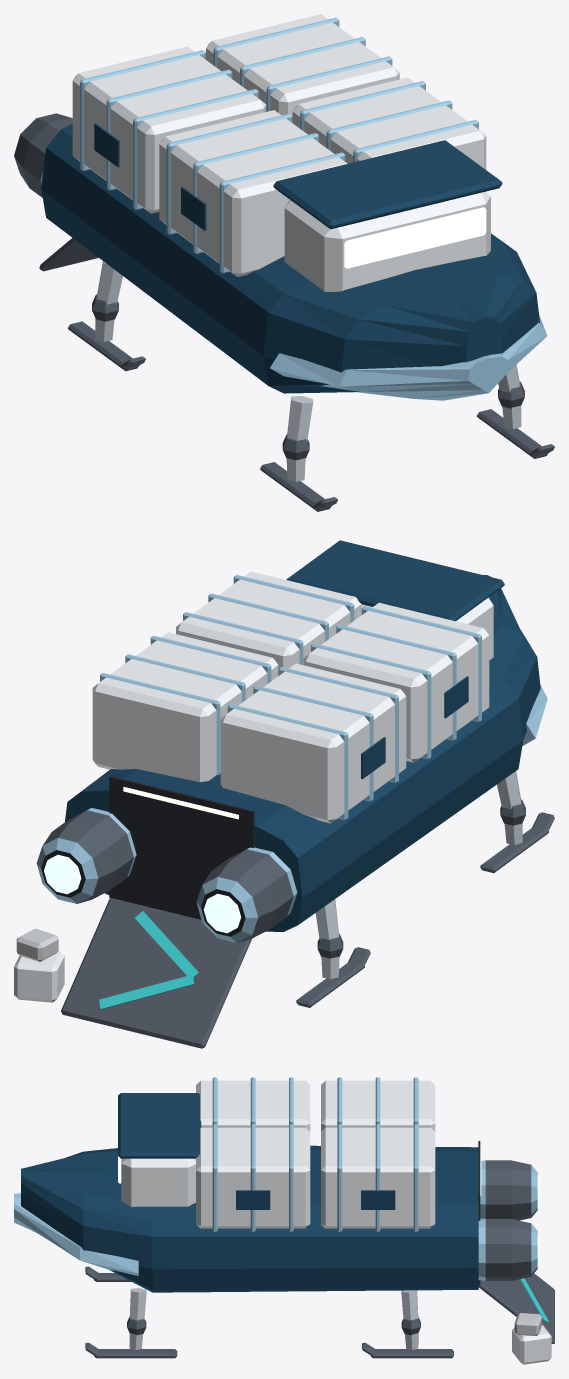
Rendered from fro-f_offen.glb.
3 renders of one model, top to bottom at view 1: azimuth 30°, elevation 25°; view 2: azimuth 150°, elevation 25°; view 3: azimuth 270°, elevation 25°, orthographic. The views are drawn at different scales.
Visible parts, largest first — view 1: rumpf, brücke, frachtmodul_2, frachtmodul_4, frachtmodul_3, frachtmodul_1, eisbrecherbug, landebein_2, landebein_4, landebein_1, triebwerk_r, rampe; view 2: rumpf, frachtmodul_4, frachtmodul_3, rampe, frachtmodul_2, laderaum, frachtmodul_1, brücke, triebwerk_r, triebwerk_l, ladung, landebein_4 (+2 smaller); view 3: rumpf, frachtmodul_3, frachtmodul_1, brücke, frachtmodul_4, frachtmodul_2, triebwerk_l, triebwerk_r, rampe, eisbrecherbug, landebein_1, landebein_3 (+2 smaller).
Part boxes in pixels (x1,y1,x2,y2): rumpf: [41, 123, 539, 393]; brücke: [273, 140, 502, 291]; frachtmodul_2: [159, 110, 347, 276]; frachtmodul_4: [72, 46, 266, 213]; frachtmodul_3: [206, 14, 399, 115]; frachtmodul_1: [292, 77, 486, 191]; eisbrecherbug: [270, 314, 547, 400]; landebein_2: [260, 396, 337, 511]; landebein_4: [68, 261, 145, 371]; landebein_1: [477, 365, 554, 458]; triebwerk_r: [14, 113, 72, 197]; rampe: [39, 238, 98, 271]; rumpf: [65, 575, 540, 931]; frachtmodul_4: [220, 663, 406, 823]; frachtmodul_3: [92, 632, 278, 782]; rampe: [61, 898, 251, 1048]; frachtmodul_2: [303, 602, 489, 762]; laderaum: [109, 776, 254, 919]; frachtmodul_1: [176, 571, 361, 675]; brücke: [286, 540, 504, 660]; triebwerk_r: [196, 847, 297, 942]; triebwerk_l: [36, 808, 136, 903]; ladung: [14, 928, 64, 1002]; landebein_4: [296, 899, 370, 1007]; rumpf: [21, 1145, 478, 1292]; frachtmodul_3: [321, 1124, 435, 1231]; frachtmodul_1: [196, 1124, 310, 1231]; brücke: [118, 1093, 201, 1206]; frachtmodul_4: [321, 1077, 435, 1131]; frachtmodul_2: [196, 1077, 310, 1131]; triebwerk_l: [478, 1219, 539, 1280]; triebwerk_r: [480, 1160, 539, 1220]; rampe: [478, 1273, 554, 1343]; eisbrecherbug: [14, 1193, 138, 1275]; landebein_1: [85, 1288, 177, 1358]; landebein_3: [362, 1290, 453, 1358].
Size of the model in its own units: 0.0807 by 0.0783 by 0.195.
